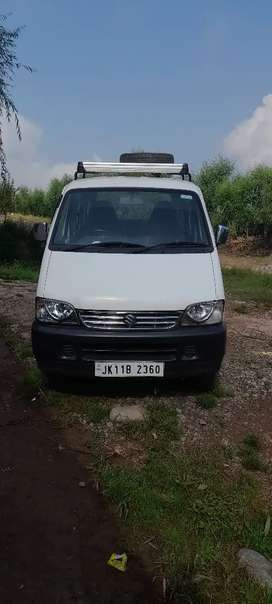JK1182360: (96, 359, 164, 377)
